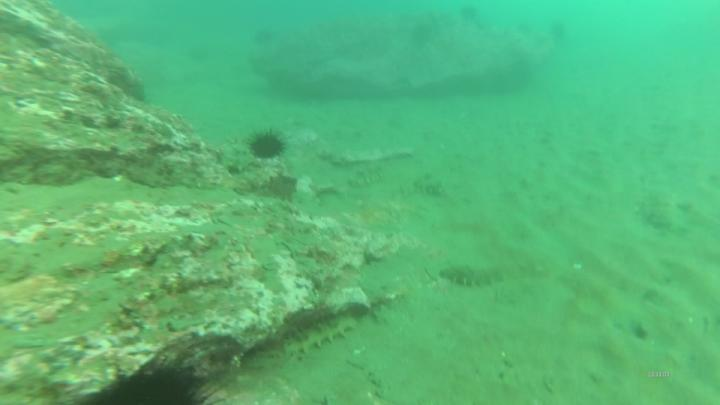echinus: (248, 127, 294, 167)
holothurian: (276, 315, 361, 356), (438, 262, 547, 290)
